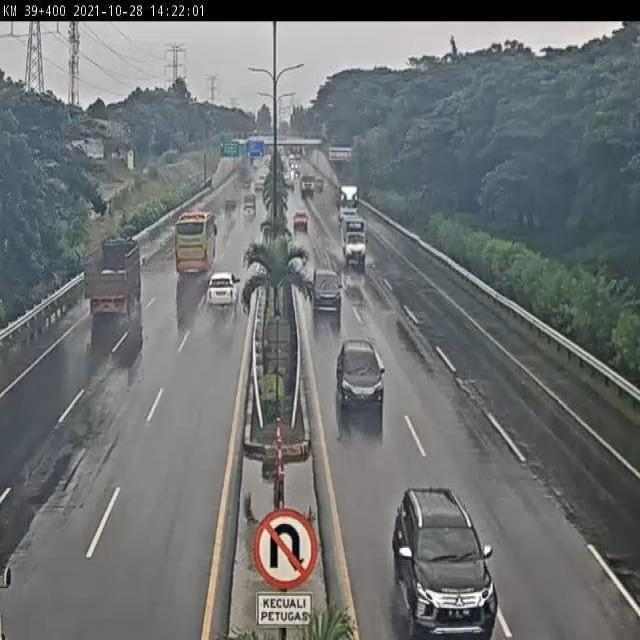big bus: (173, 210, 217, 282)
car: (394, 487, 500, 636), (337, 340, 386, 415), (309, 269, 343, 312), (204, 274, 239, 314), (292, 206, 309, 230)
truck-m-: (81, 242, 141, 318)
truck-s-: (342, 215, 368, 265)
